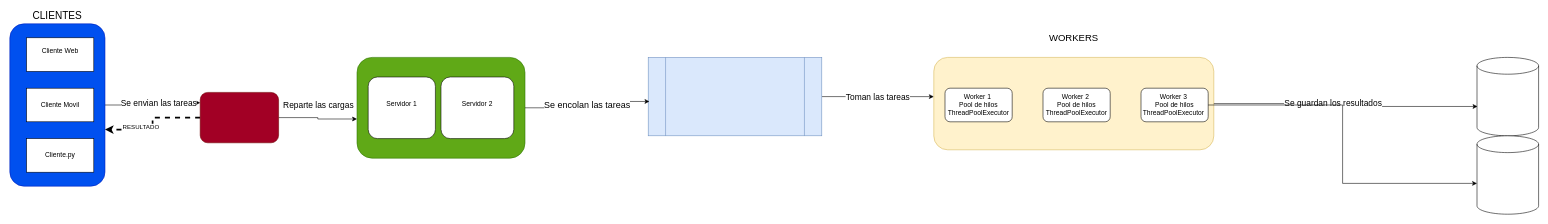
This 1548x224 diagram has some shape labels left out. Each missing label, with the centre of its shape:
Nginx Balanceador de Carga: point 239,117
PostgreSql: point 1507,96
RabbitMQ Cola de mensajes: point 735,96
S3: point 1507,174
